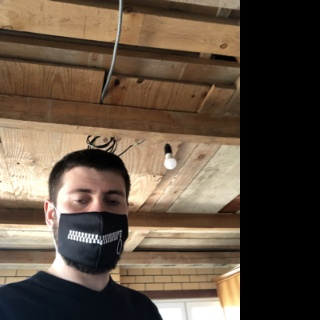with_mask: (58, 181, 128, 268)
